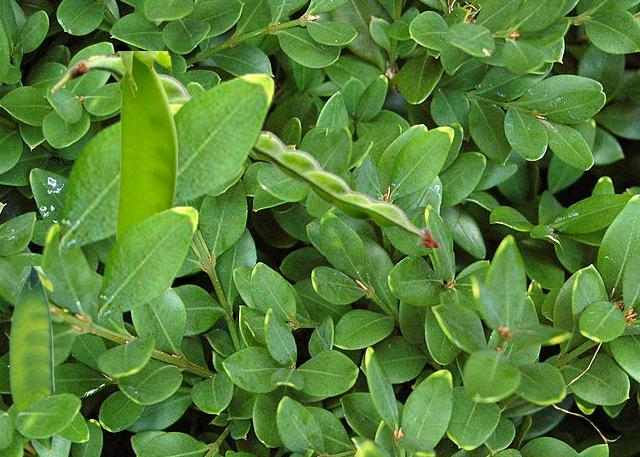pea: (51, 53, 263, 162), (250, 130, 440, 246), (116, 51, 176, 238), (9, 266, 53, 451)
